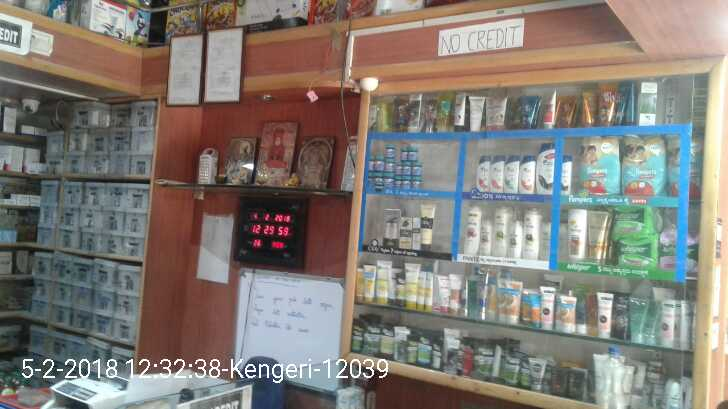beauty: (459, 201, 480, 260), (386, 209, 414, 252), (417, 204, 439, 255), (525, 207, 542, 266), (492, 204, 507, 264), (537, 144, 552, 196), (503, 220, 521, 263), (472, 153, 489, 194), (487, 156, 505, 194), (519, 157, 536, 196), (503, 154, 517, 195)
pharmacy: (622, 131, 670, 200), (574, 136, 619, 195), (610, 234, 656, 272), (611, 206, 656, 236), (367, 173, 424, 189), (396, 143, 425, 161), (391, 160, 423, 176), (365, 158, 393, 171), (381, 145, 396, 156)
